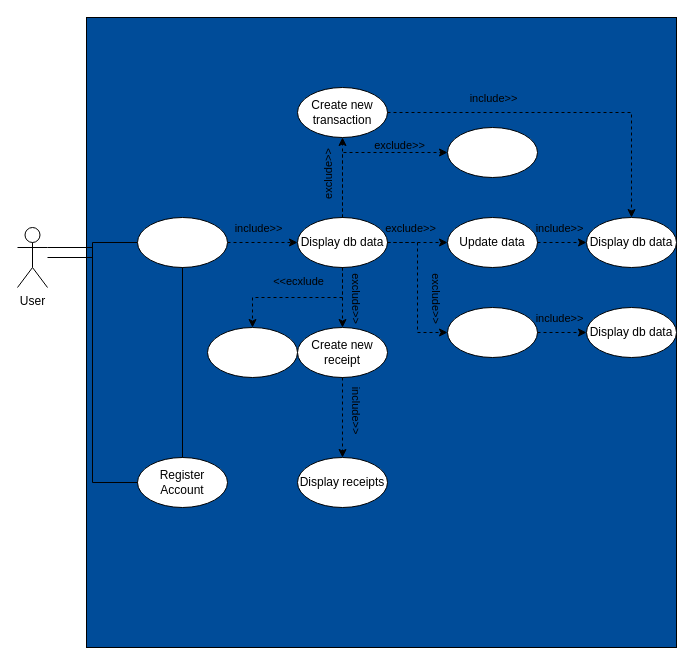
This 694x665 diagram has some shape labels left out. The box of each missing label's shape, as (x1, y1, x2, y2) in pixels:
Delete data: (446, 306, 538, 358)
Display statistics: (446, 126, 538, 178)
Log out: (206, 326, 298, 378)
Login Account: (136, 216, 228, 268)
